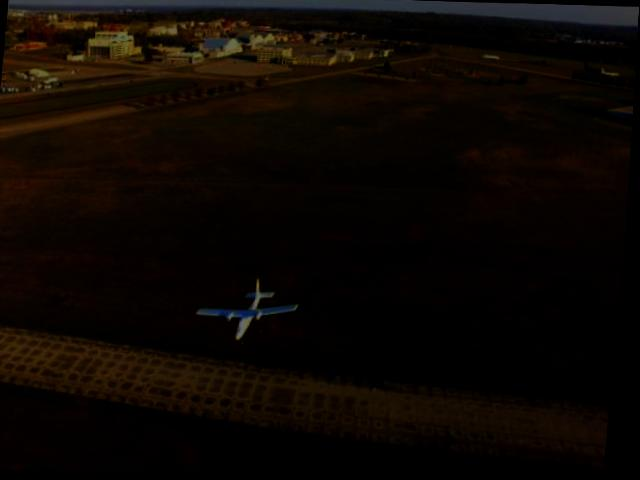uav: (198, 276, 304, 344)
